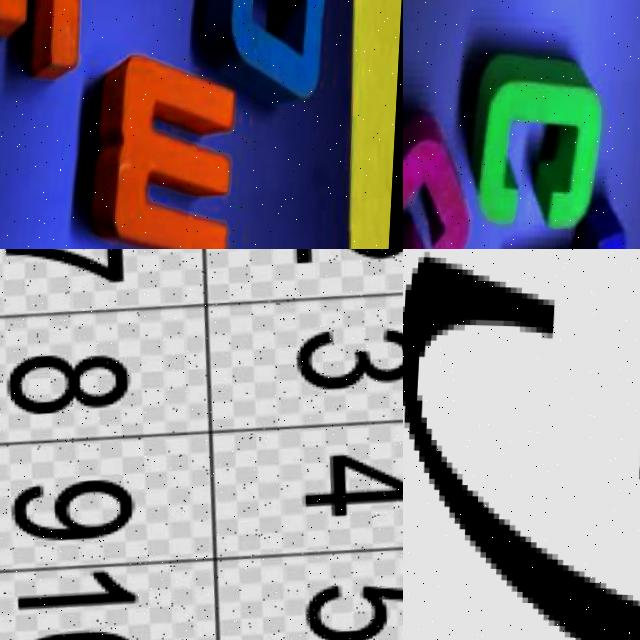0: (18, 617, 151, 640)
1: (14, 563, 146, 615)
2: (284, 249, 403, 274)
3: (291, 310, 403, 399)
4: (297, 439, 403, 523)
5: (304, 566, 403, 640)
7: (0, 249, 134, 291)
8: (1, 337, 140, 419)
9: (403, 249, 640, 640), (13, 471, 142, 548)
C: (464, 47, 608, 224)
D: (210, 0, 332, 102)
G: (403, 114, 469, 249)
T: (505, 180, 636, 249)
W: (89, 46, 240, 249)
